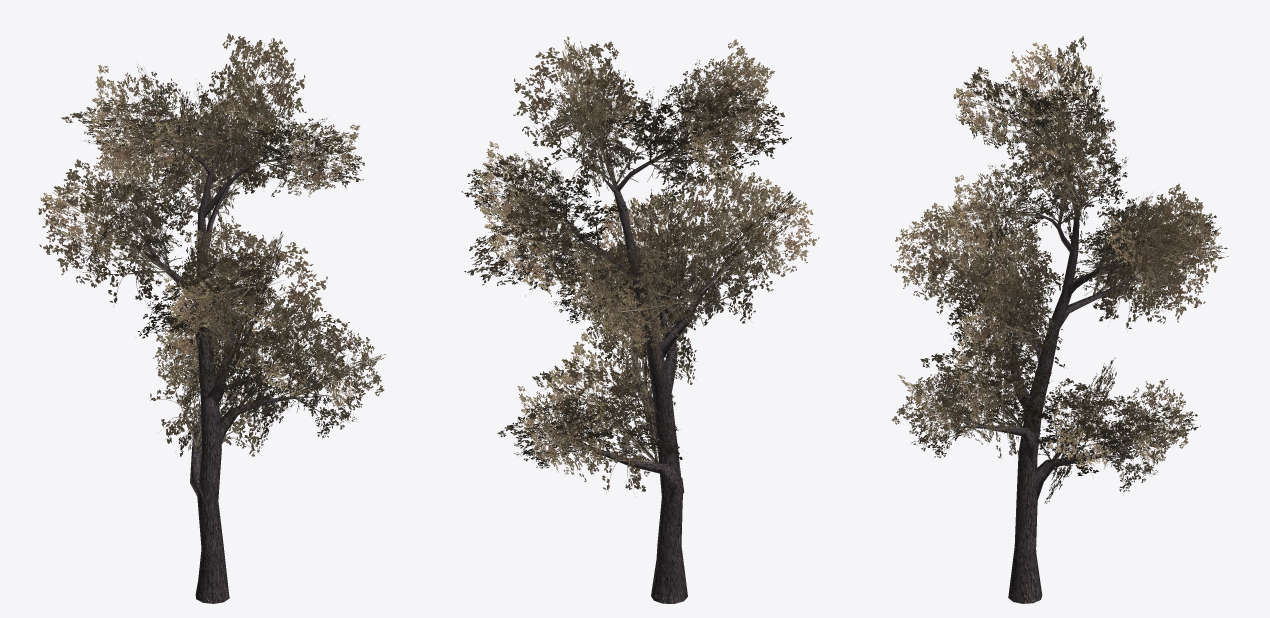
Rendered from tree_03.DAE.
The picture shows the model from 3 angles, left to right: view 1: azimuth 30°, elevation 25°; view 2: azimuth 150°, elevation 25°; view 3: azimuth 270°, elevation 25°; orthographic projection. The views are drawn at different scales.
Visible parts, largest first — view 1: Tree_Leafy_03a, Object003; view 2: Tree_Leafy_03a, Object003; view 3: Tree_Leafy_03a, Object003.
Part boxes in pixels (box(x1,y1,x2,y2)): Tree_Leafy_03a: box(38, 33, 385, 456); Object003: box(139, 141, 314, 603); Tree_Leafy_03a: box(461, 36, 819, 497); Object003: box(555, 136, 726, 603); Tree_Leafy_03a: box(890, 36, 1228, 503); Object003: box(958, 137, 1142, 603).
Bounding box in the file's own units: 4.7 × 8.77 × 5.64.
